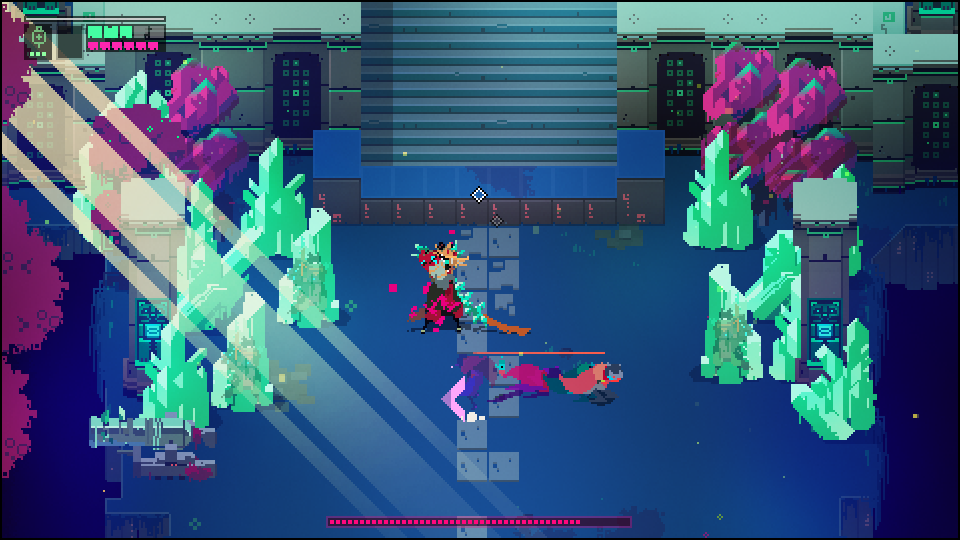hanged_man: (406, 237, 491, 338)
player: (555, 357, 629, 402)
